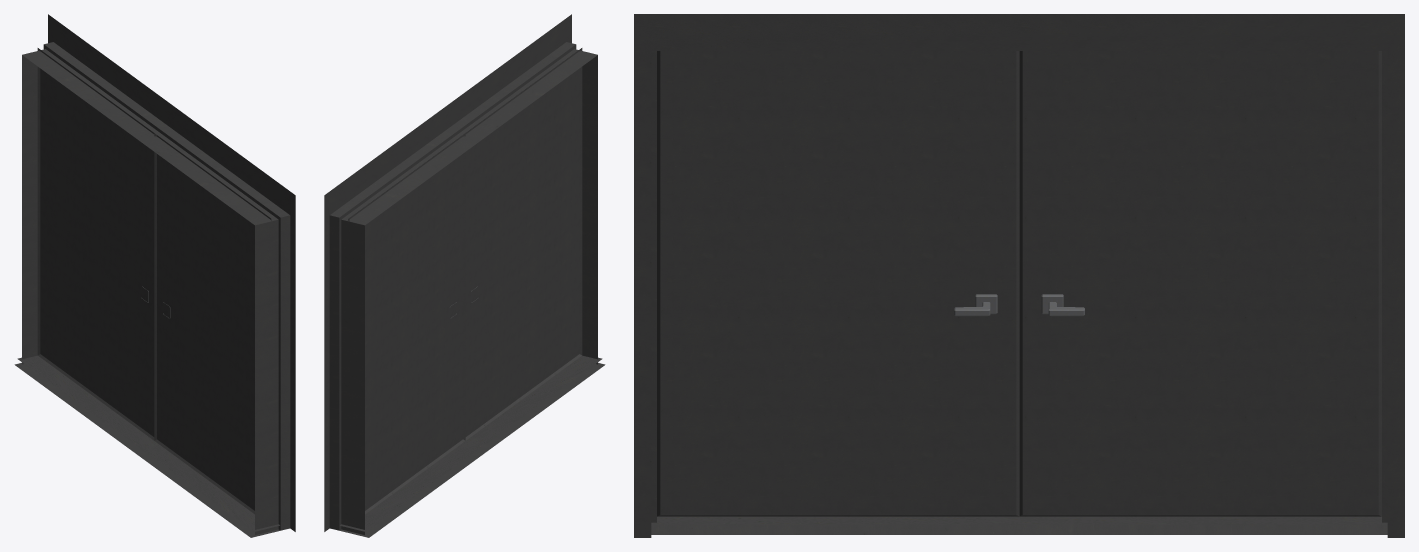
The model's file is SM_double_doors_a_400_300_closed.fbx.
The picture shows the model from 3 angles, left to right: view 1: azimuth 30°, elevation 25°; view 2: azimuth 150°, elevation 25°; view 3: azimuth 270°, elevation 25°; orthographic projection. The views are drawn at different scales.
Parts seen in each view (by area): view 1: polySurface865; view 2: polySurface865; view 3: polySurface865, polySurface861.
Boxes of the visible parts, left/top/right/bottom form: polySurface865: left=14, top=14, right=295, bottom=537; polySurface865: left=324, top=14, right=605, bottom=537; polySurface865: left=634, top=14, right=1404, bottom=537; polySurface861: left=954, top=294, right=1084, bottom=316.
Size of the model in its own units: 0.3656 by 3 by 4.
